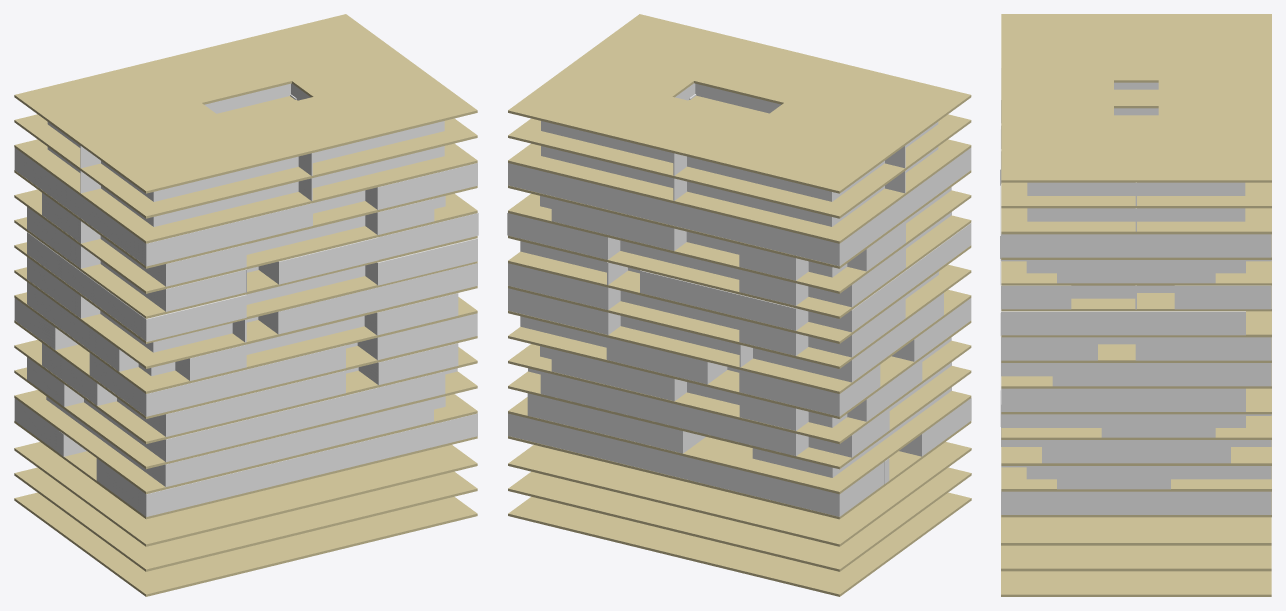
The model's file is mirabase.glb.
3 renders of one model, left to right at view 1: azimuth 30°, elevation 25°; view 2: azimuth 150°, elevation 25°; view 3: azimuth 270°, elevation 25°, orthographic. The views are drawn at different scales.
Parts seen in each view (by area): view 1: mesh (×69); view 2: mesh (×63); view 3: mesh (×46).
Part boxes in pixels (bbox=[...]): mesh (×69): bbox=[14, 14, 478, 596]; mesh (×63): bbox=[507, 14, 971, 596]; mesh (×46): bbox=[1001, 14, 1271, 596].
Bounding box in the file's own units: 36.11 × 42.1 × 24.88.
